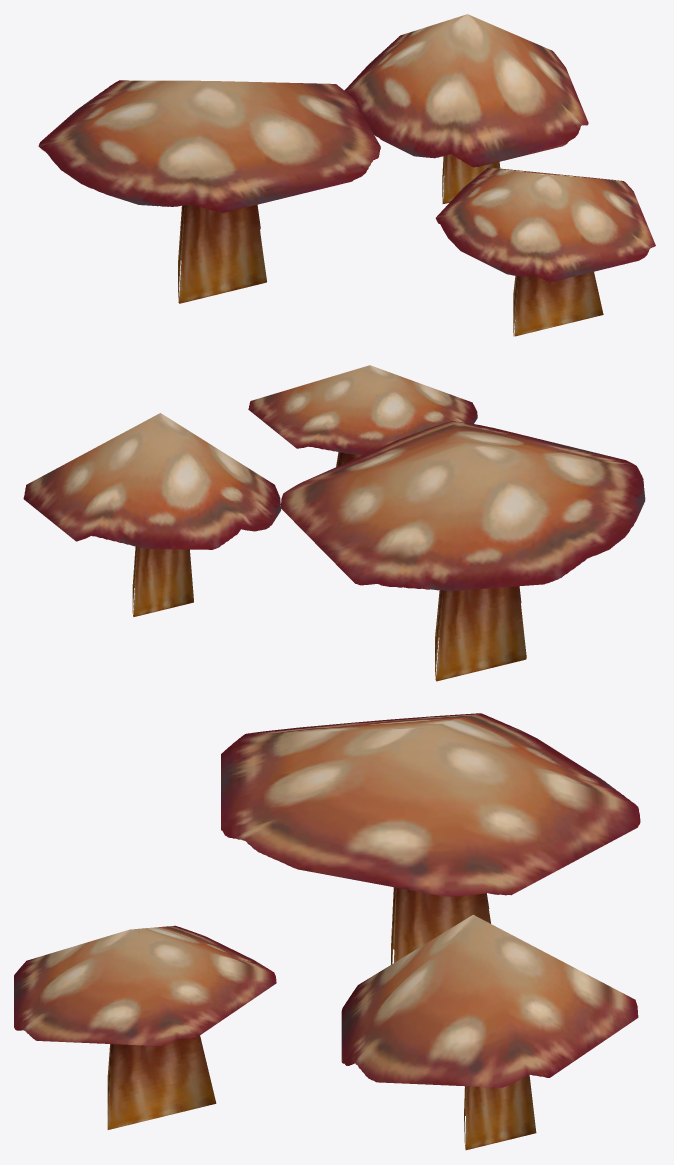
The model's file is elwynnmushroom01.obj.
3 views of the same model, one above another, from view 1: azimuth 30°, elevation 25°; view 2: azimuth 150°, elevation 25°; view 3: azimuth 270°, elevation 25° (orthographic). The views are drawn at different scales.
Visible parts, largest first — view 1: elwynnmushroom01; view 2: elwynnmushroom01; view 3: elwynnmushroom01.
Boxes of the visible parts, x1=… form: elwynnmushroom01: x1=38, y1=14, x2=655, y2=336; elwynnmushroom01: x1=23, y1=365, x2=645, y2=681; elwynnmushroom01: x1=14, y1=713, x2=640, y2=1150.
Size of the model in its own units: 1.18 by 0.4064 by 0.9697.
1 material, 1 textured.
